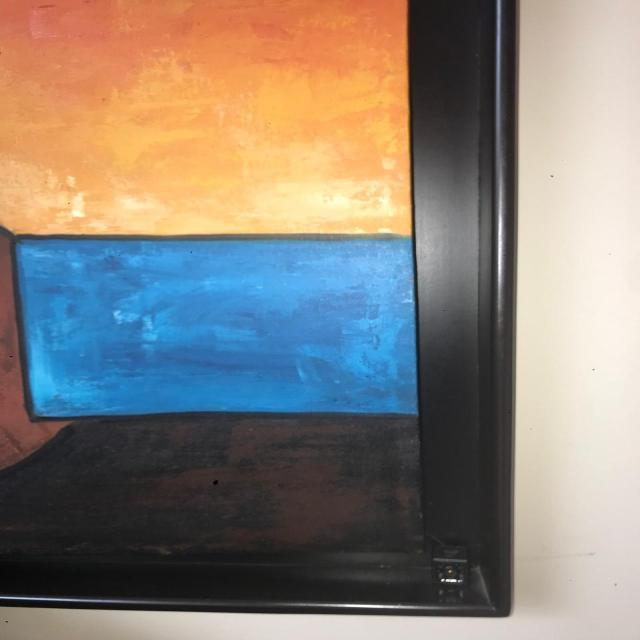hidden camera: (443, 567, 458, 579)
